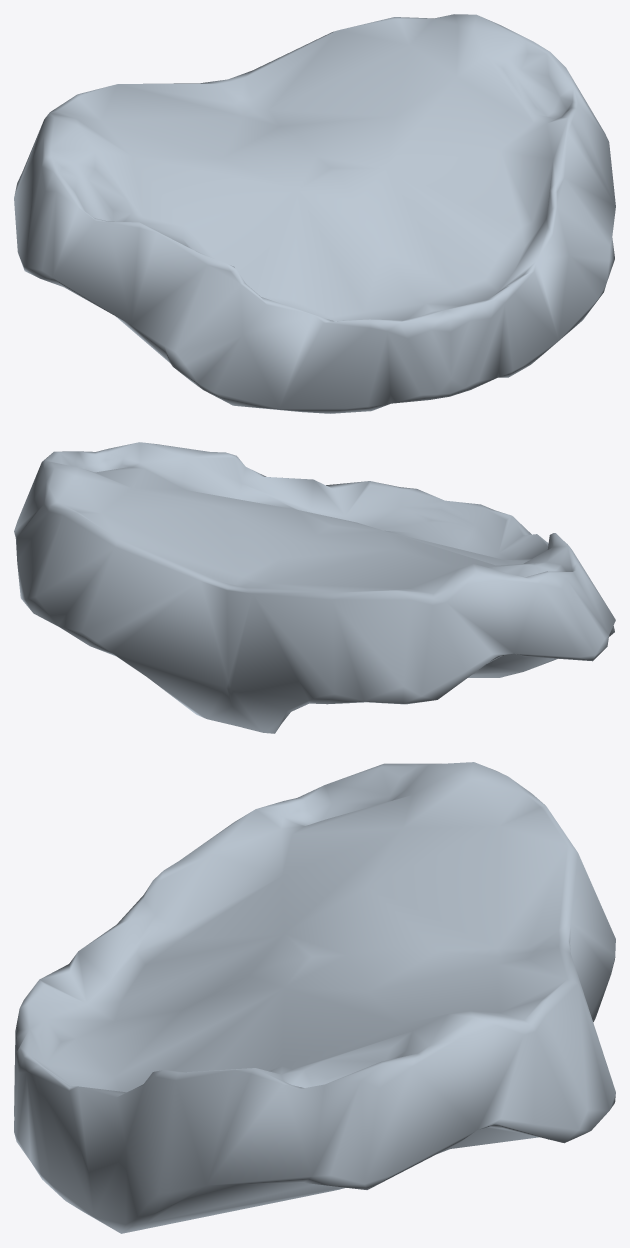
The model's file is intervertebral-disc-c2-c3.glb.
3 renders of one model, top to bottom at view 1: azimuth 30°, elevation 25°; view 2: azimuth 150°, elevation 25°; view 3: azimuth 270°, elevation 25°, orthographic. The views are drawn at different scales.
Visible parts, largest first — view 1: Intervertebral disc C2-C3; view 2: Intervertebral disc C2-C3; view 3: Intervertebral disc C2-C3.
Part boxes in pixels (x1,y1,x2,y2): Intervertebral disc C2-C3: (14,14,615,413); Intervertebral disc C2-C3: (14,442,615,733); Intervertebral disc C2-C3: (14,762,615,1233).
Size of the model in its own units: 0.0239 by 0.0081 by 0.0176.
